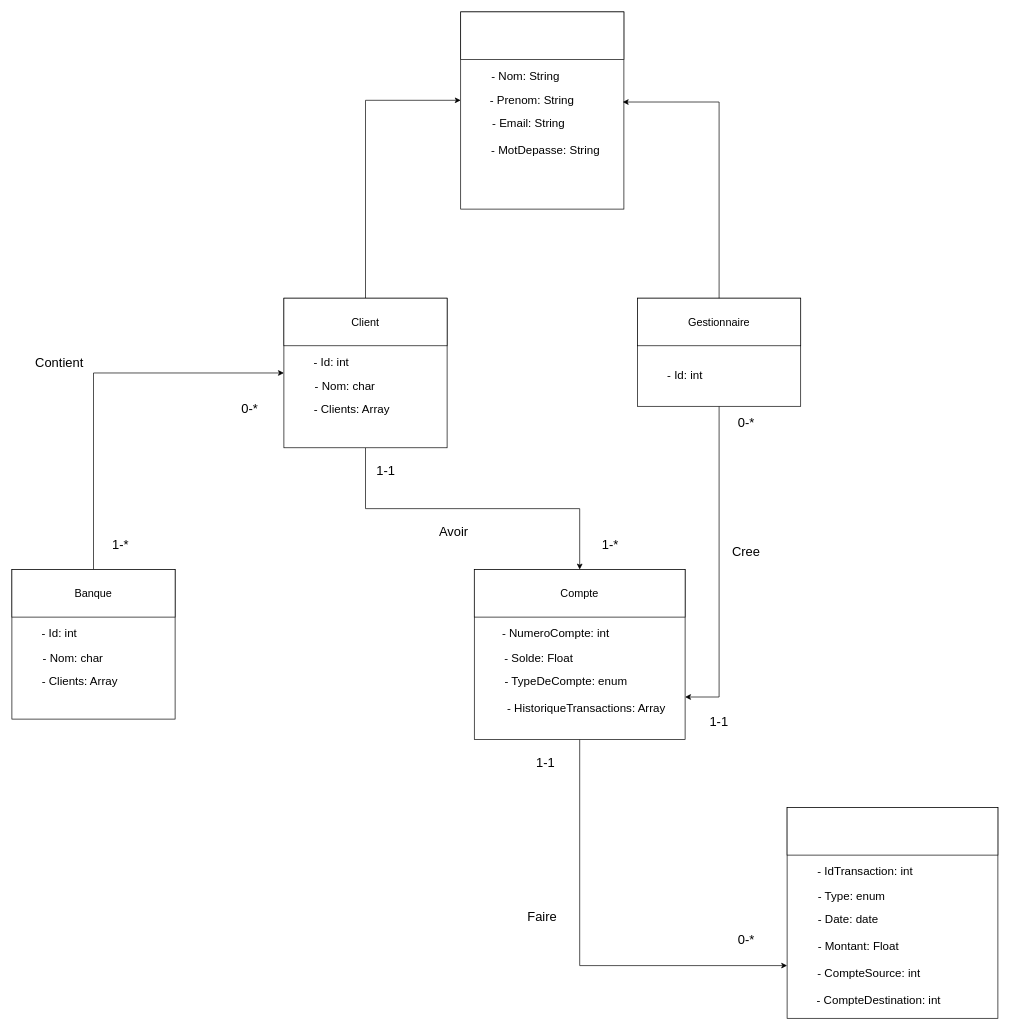
This 1010x1030 diagram has some shape labels left out. Here are the shapes that lost their labels. From the top down, the box of each, then its label:
(460, 11, 624, 60): Personne
(786, 807, 998, 855): Transaction
